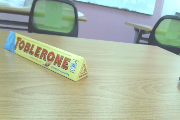Chocolate: (2, 30, 106, 90)
